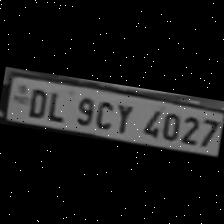0: (157, 107, 183, 141)
2: (178, 112, 202, 146)
4: (136, 102, 166, 138)
7: (196, 113, 220, 148)
9: (69, 92, 97, 127)
C: (91, 95, 117, 130)
D: (22, 84, 50, 119)
L: (44, 87, 71, 122)
Y: (110, 99, 136, 135)
